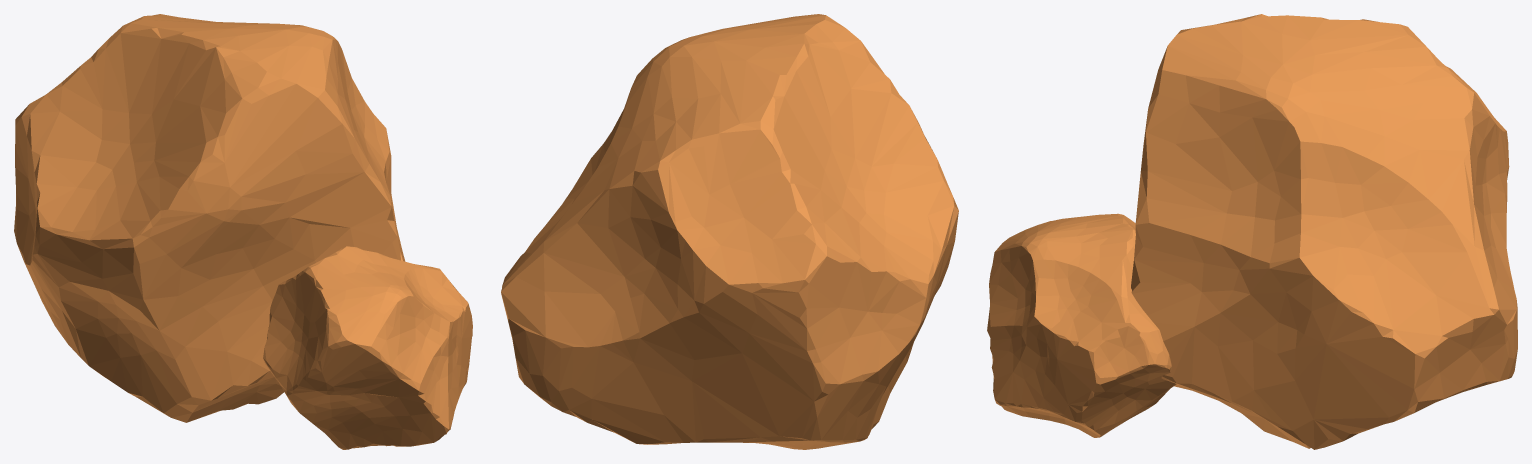
File: twoRocks.fbx
3 views of the same model, side by side, from view 1: azimuth 30°, elevation 25°; view 2: azimuth 150°, elevation 25°; view 3: azimuth 270°, elevation 25° (orthographic). The views are drawn at different scales.
Visible parts, largest first — view 1: Cube, Cube.001; view 2: Cube; view 3: Cube, Cube.001.
Boxes of the visible parts, bbox=[...] form: Cube: bbox=[14, 14, 405, 422]; Cube.001: bbox=[263, 246, 472, 449]; Cube: bbox=[501, 14, 958, 449]; Cube: bbox=[1131, 14, 1517, 449]; Cube.001: bbox=[987, 213, 1176, 437].
Size of the model in its own units: 1159 by 1137 by 1409.
